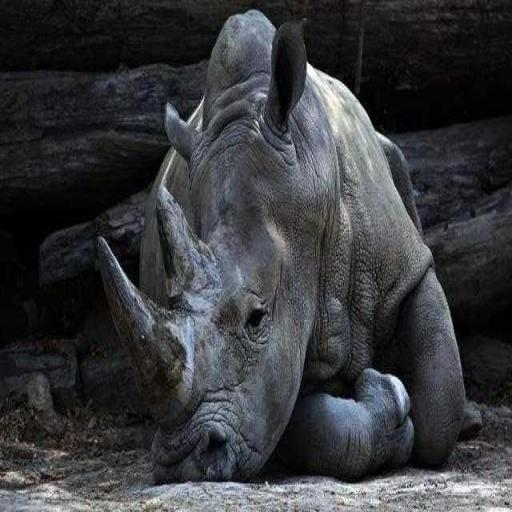Rhino: (94, 7, 481, 485)
